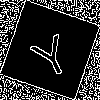Y: (25, 25, 75, 81)
